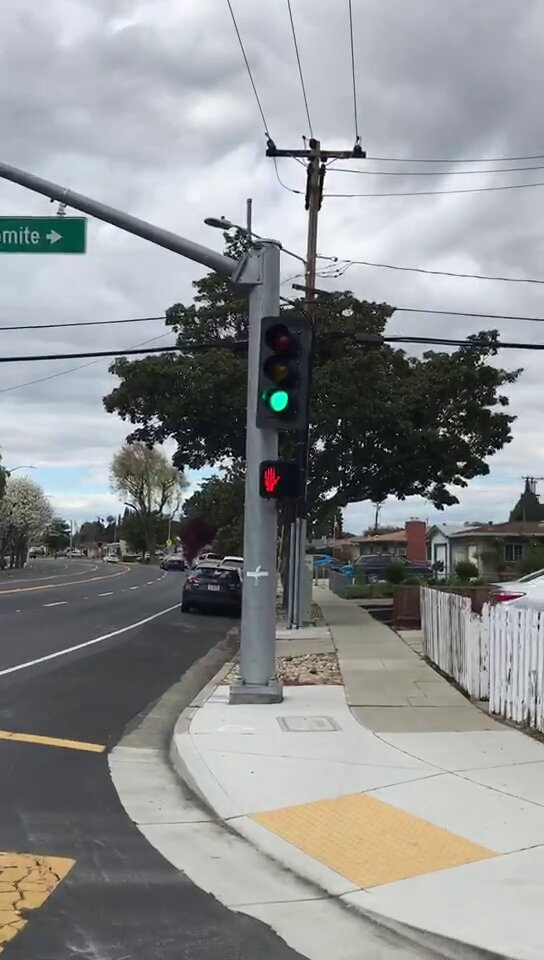green_light: (262, 316, 308, 430)
